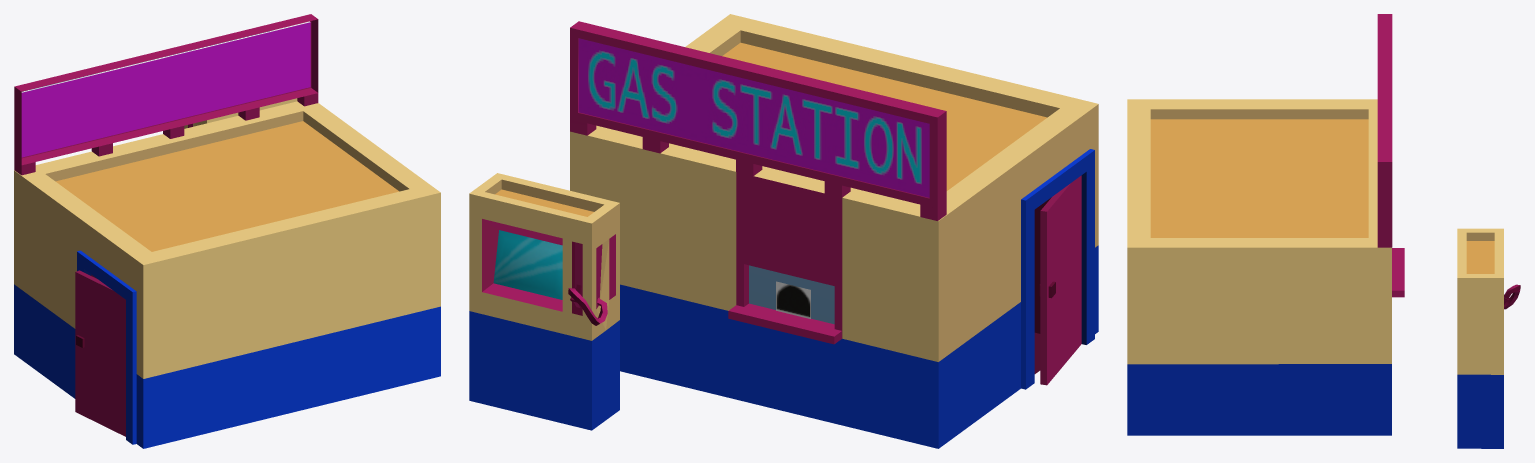
File: house_2.fbx
The picture shows the model from 3 angles, left to right: view 1: azimuth 30°, elevation 25°; view 2: azimuth 150°, elevation 25°; view 3: azimuth 270°, elevation 25°; orthographic projection. The views are drawn at different scales.
Parts seen in each view (by area): view 1: house_5_6.001; view 2: house_5_6.001; view 3: house_5_6.001.
Part boxes in pixels (box(x1,y1,x2,y2)): house_5_6.001: box(14, 14, 440, 448); house_5_6.001: box(469, 14, 1098, 448); house_5_6.001: box(1127, 14, 1520, 448).
Size of the model in its own units: 133 by 100 by 130.
